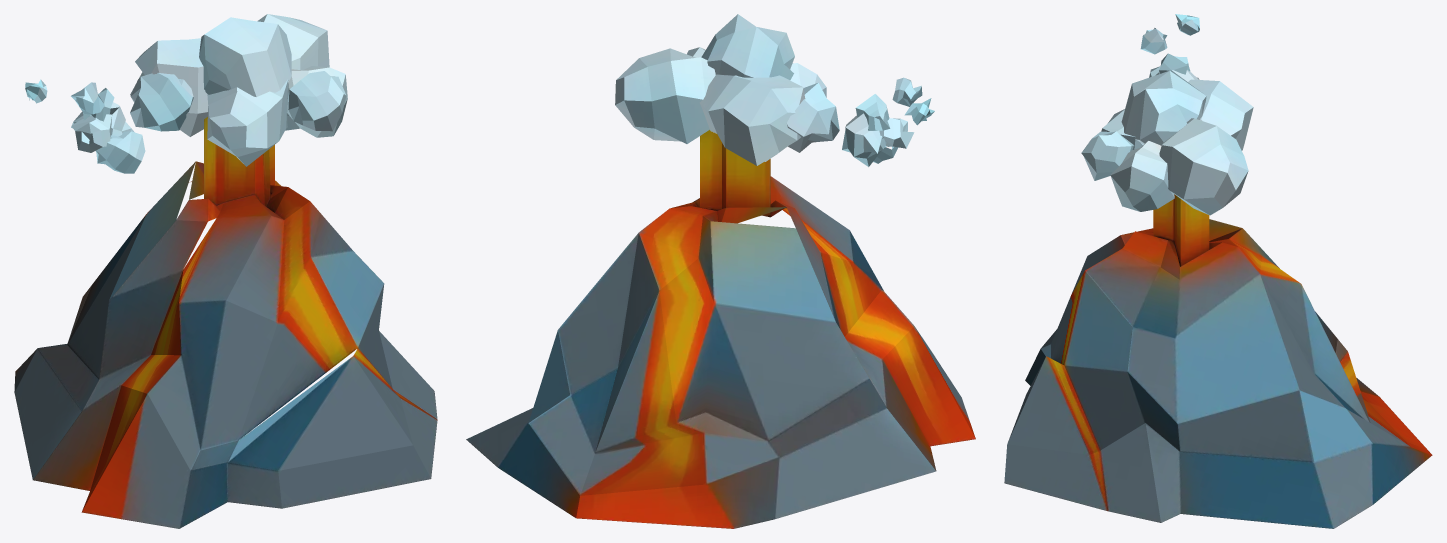
The model's file is Volcano.glb.
3 renders of one model, left to right at view 1: azimuth 30°, elevation 25°; view 2: azimuth 150°, elevation 25°; view 3: azimuth 270°, elevation 25°, orthographic. The views are drawn at different scales.
Parts seen in each view (by area): view 1: Volcano_mesh; view 2: Volcano_mesh; view 3: Volcano_mesh.
Part boxes in pixels (<box>): Volcano_mesh: <box>14,14,437,528</box>; Volcano_mesh: <box>466,14,975,528</box>; Volcano_mesh: <box>1004,14,1432,528</box>.
Size of the model in its own units: 14.9 by 14.66 by 15.5.
1 material, 1 textured.
